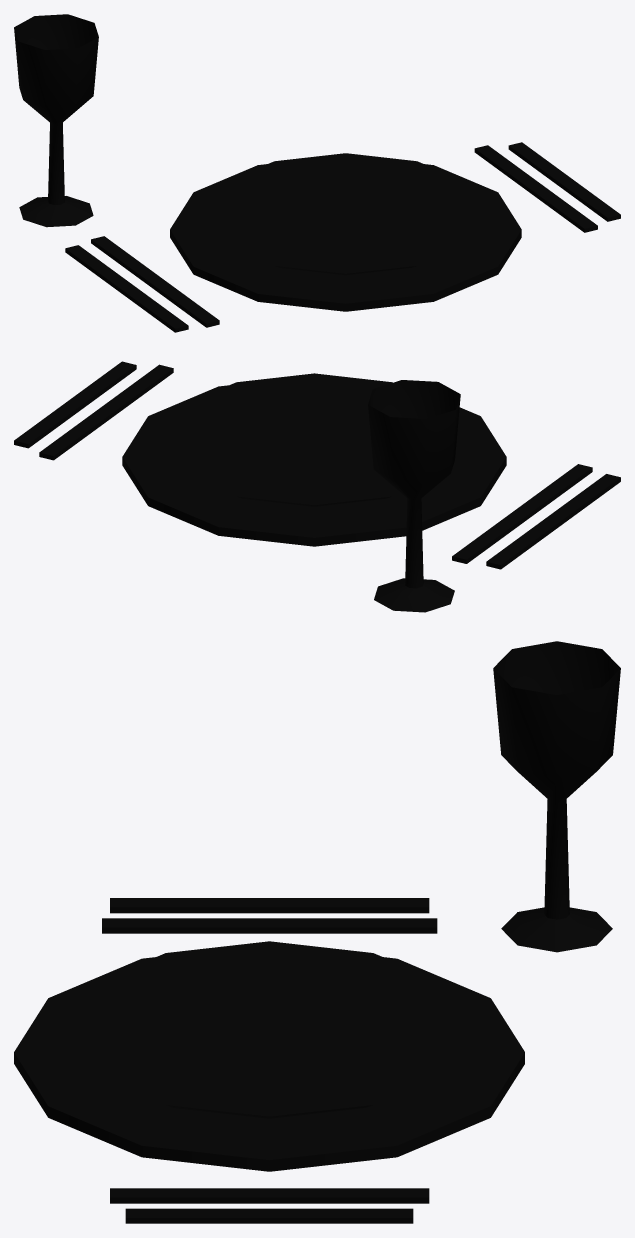
The model's file is SM_place_setting.fbx.
3 renders of one model, top to bottom at view 1: azimuth 30°, elevation 25°; view 2: azimuth 150°, elevation 25°; view 3: azimuth 270°, elevation 25°, orthographic. The views are drawn at different scales.
Visible parts, largest first — view 1: place_setting; view 2: place_setting; view 3: place_setting.
Boxes of the visible parts, x1,y1,x2,y2 form: place_setting: [14, 14, 620, 332]; place_setting: [14, 361, 620, 612]; place_setting: [14, 641, 620, 1223].
Bounding box in the file's own units: 0.477 × 0.18 × 0.38.
